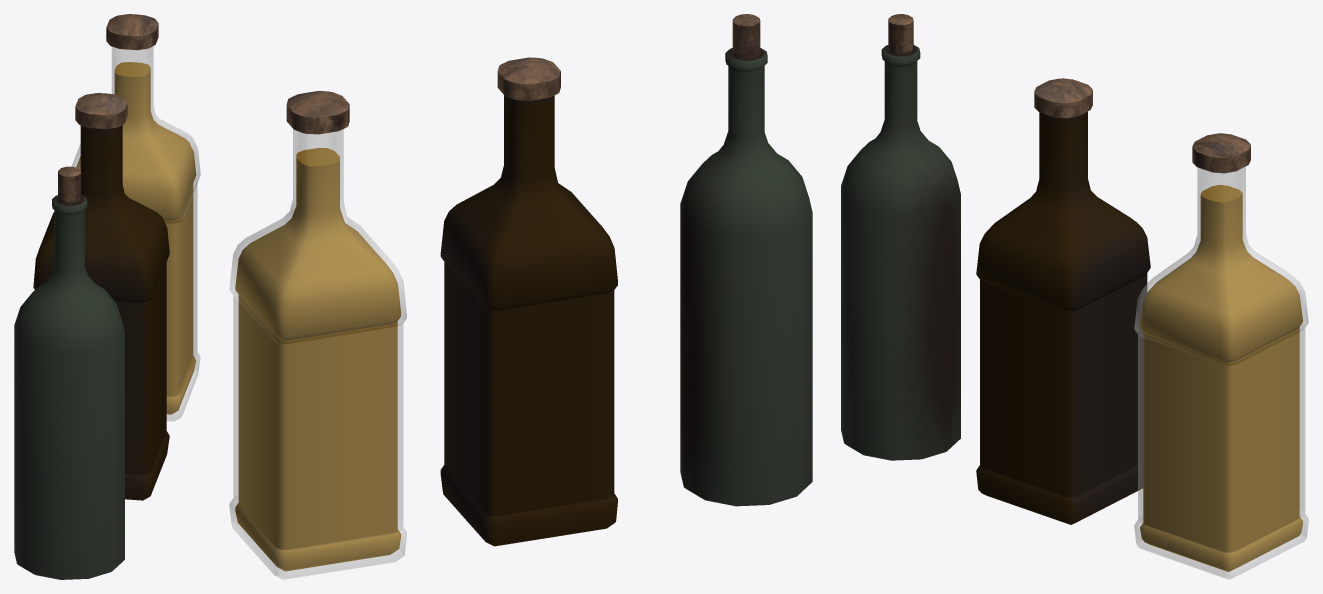
3 renders of one model, left to right at view 1: azimuth 30°, elevation 25°; view 2: azimuth 150°, elevation 25°; view 3: azimuth 270°, elevation 25°, orthographic. The views are drawn at different scales.
Parts seen in each view (by area): view 1: Whiskey; view 2: Whiskey; view 3: Whiskey.
Part boxes in pixels (x1,y1,x2,y2): Whiskey: [14, 14, 200, 579]; Whiskey: [229, 14, 812, 579]; Whiskey: [841, 14, 1308, 579].
Size of the model in its own units: 0.6447 by 0.7227 by 0.7342.
3 materials, 3 textured.
